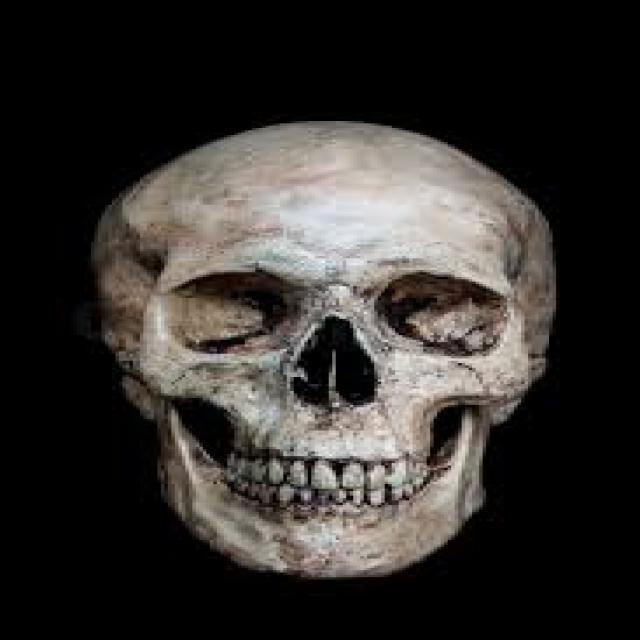skull: (76, 105, 575, 590)
